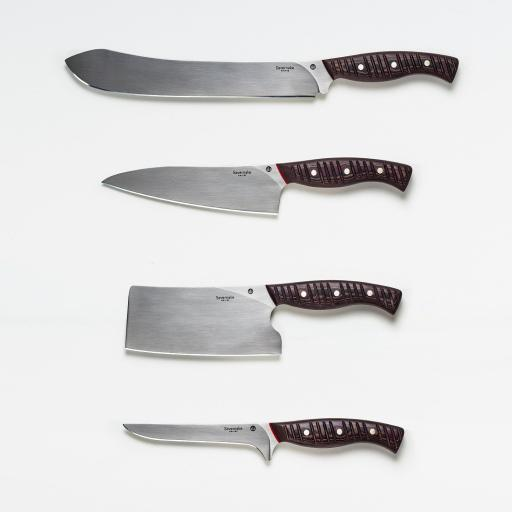knife: (98, 155, 415, 222)
